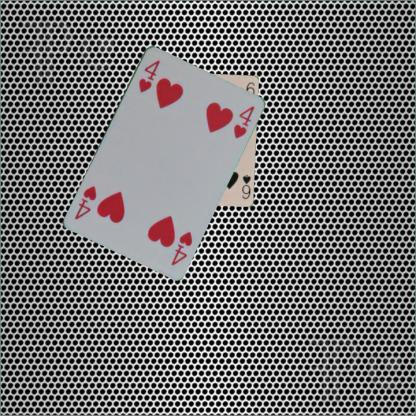4h: (168, 229, 194, 266), (136, 57, 161, 94)
6s: (239, 172, 252, 200)
